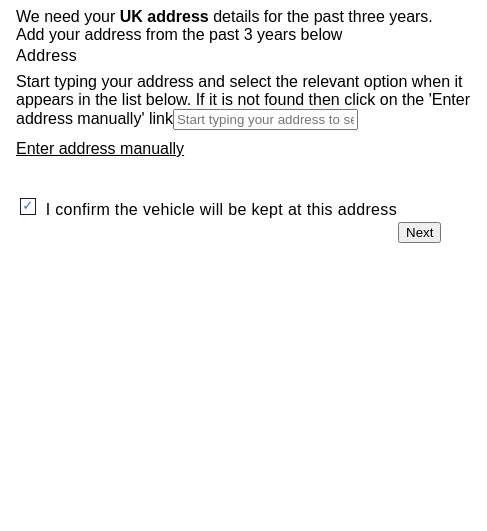
it: <Address /> › user can switch to manually entering address inputs
Click the text "Enter address manually" at (100, 148), box x1=16 y1=140 x2=184 y2=157
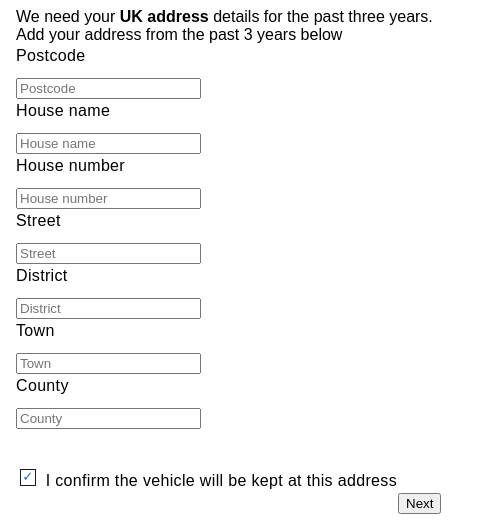
Now the number of fields is 7, box x1=16 y1=78 x2=201 y2=99
